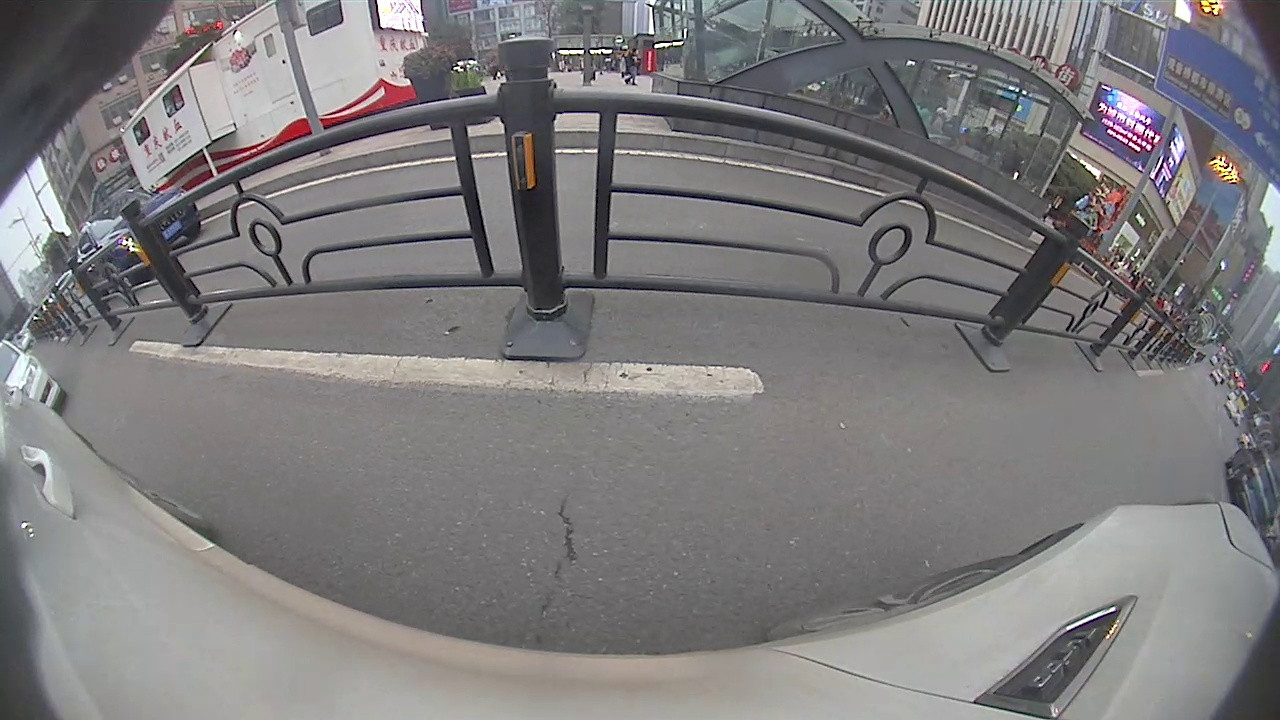car: (71, 189, 204, 297)
